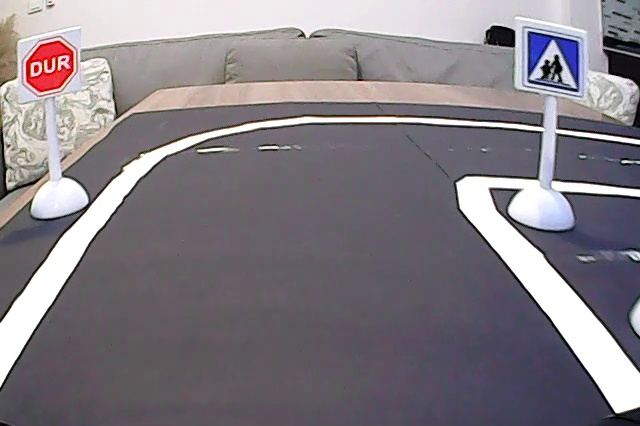school crossing: (520, 25, 584, 96)
stop sign: (20, 35, 80, 101)
